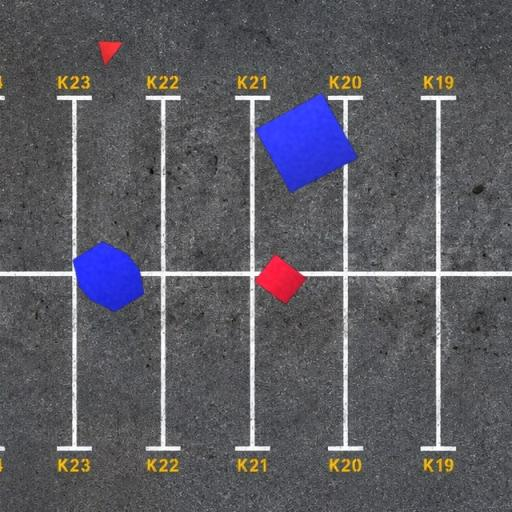BLUE_SQUARE: (254, 92, 360, 194)
RED_SQUARE: (254, 252, 308, 306)
